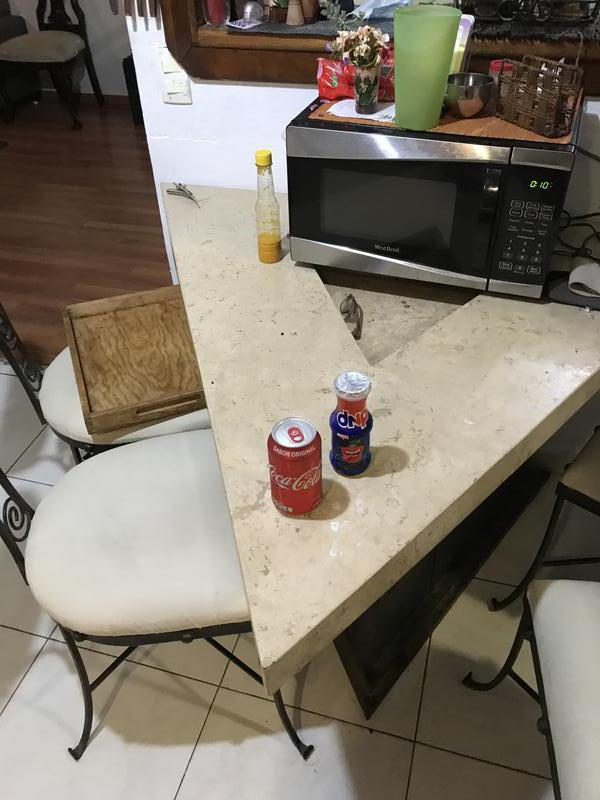coca_cola: (266, 419, 324, 518)
danup: (329, 370, 376, 477)
